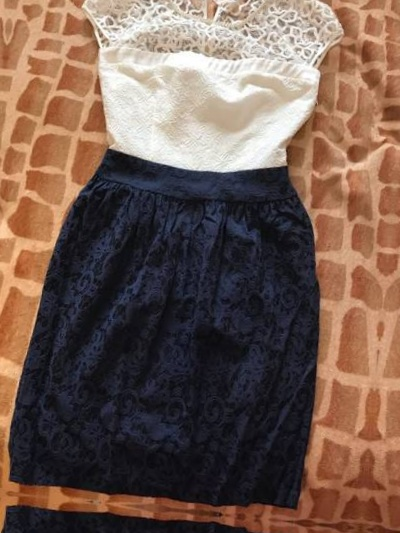Dress: (3, 0, 377, 516), (0, 503, 322, 533)
